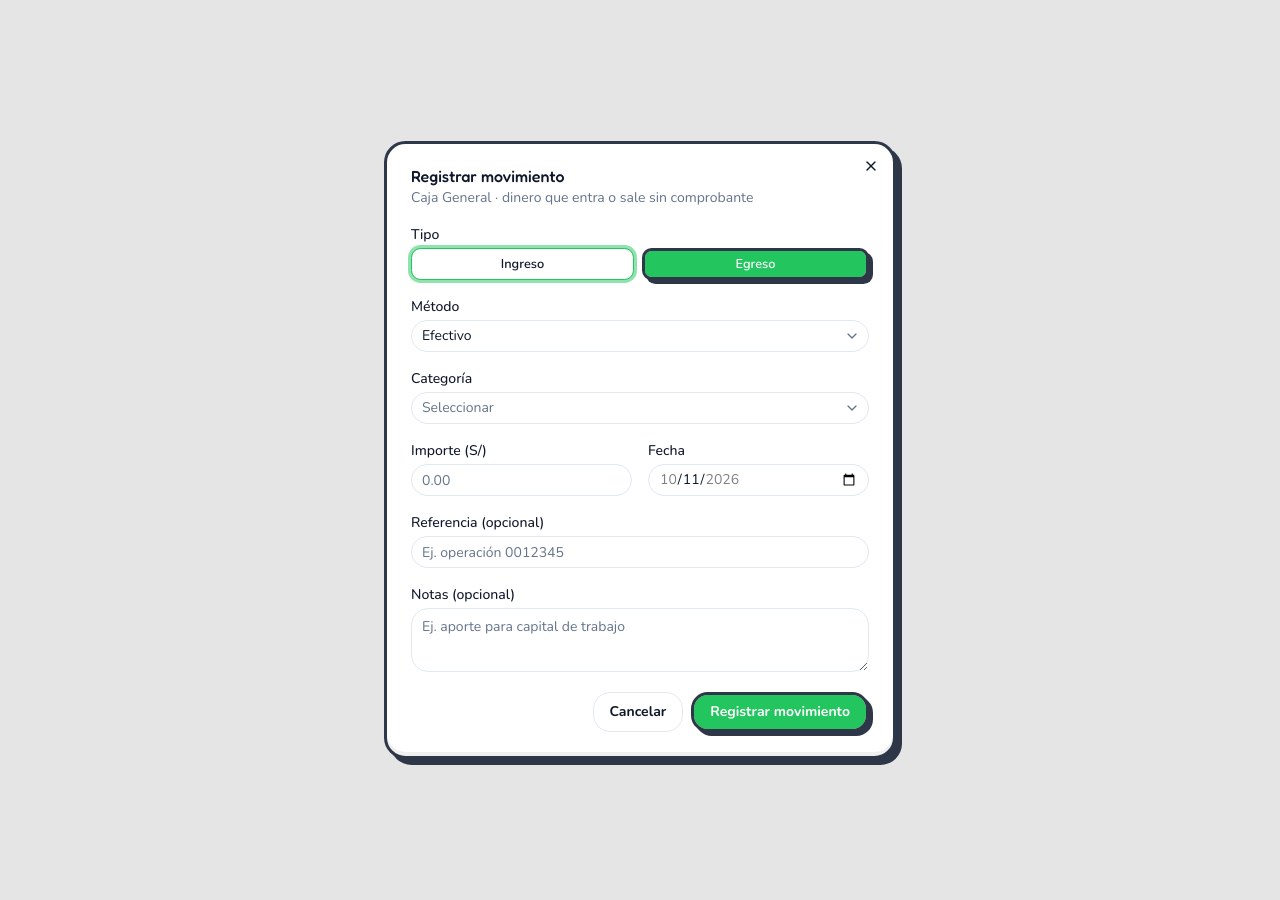
CashMovementModal › rechaza una fecha dentro de un periodo cerrado
The width and height of the screenshot is (1280, 900).
Expected: the text "Efectivo" is shown, [422, 326, 472, 345]
Type "25" into the number field labelled "Importe (S/)" at (522, 480), box [411, 464, 632, 496]
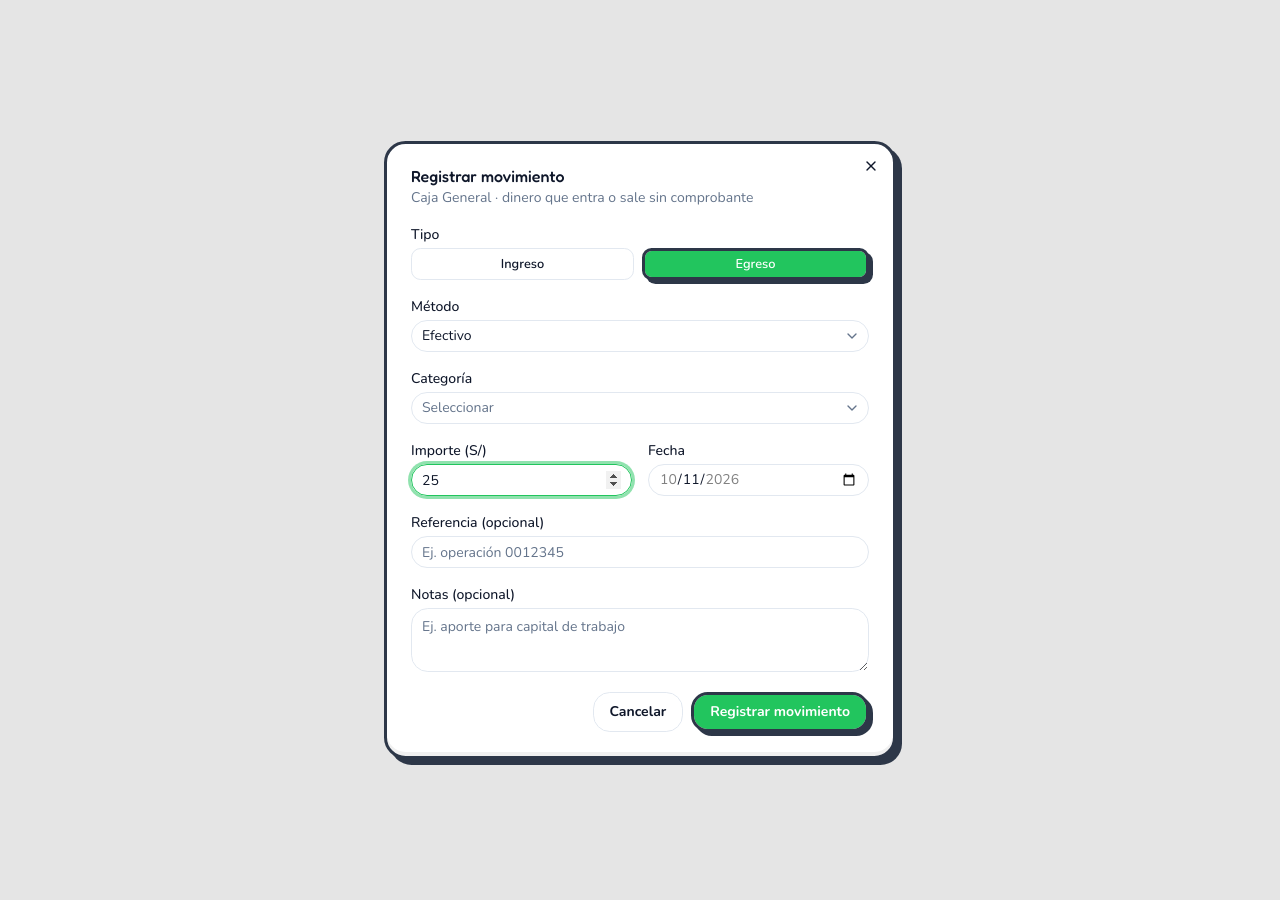
Click the dropdown named "Categoría" at (458, 408), box [411, 392, 869, 424]
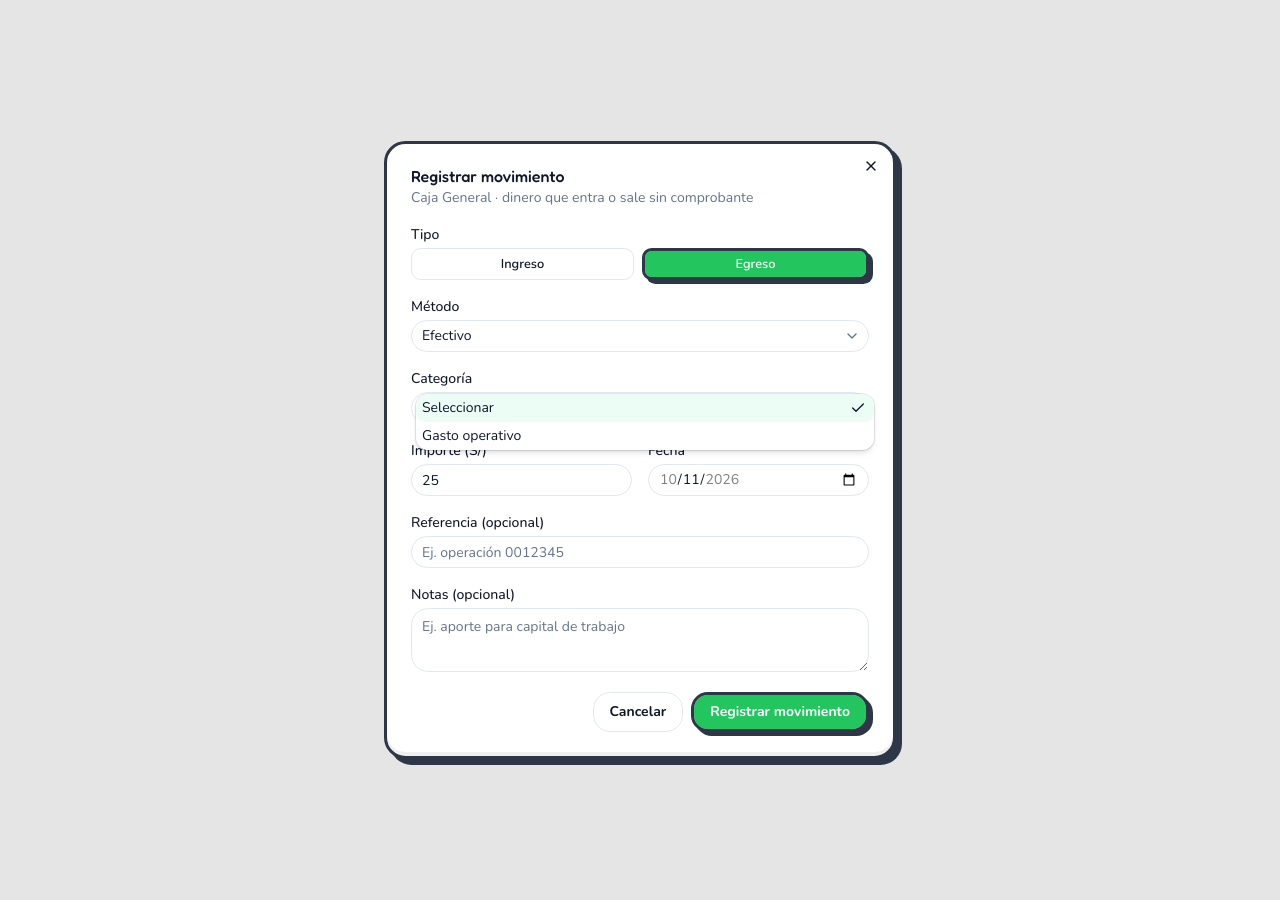
Click the option "Gasto operativo" at (472, 436), box [422, 426, 521, 445]
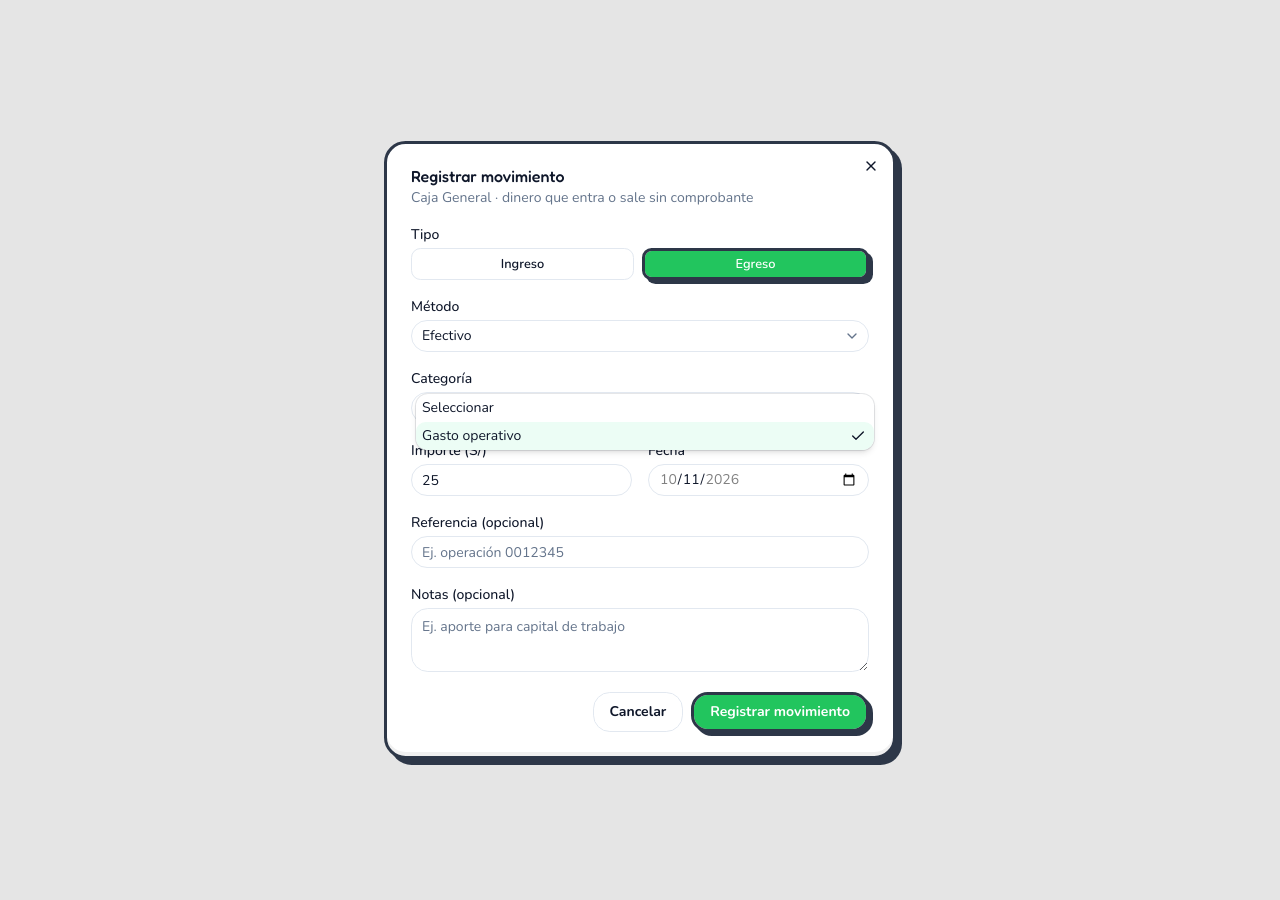
Type "2026-10-05" into the date field labelled "Fecha" at (758, 480), box [648, 464, 869, 496]
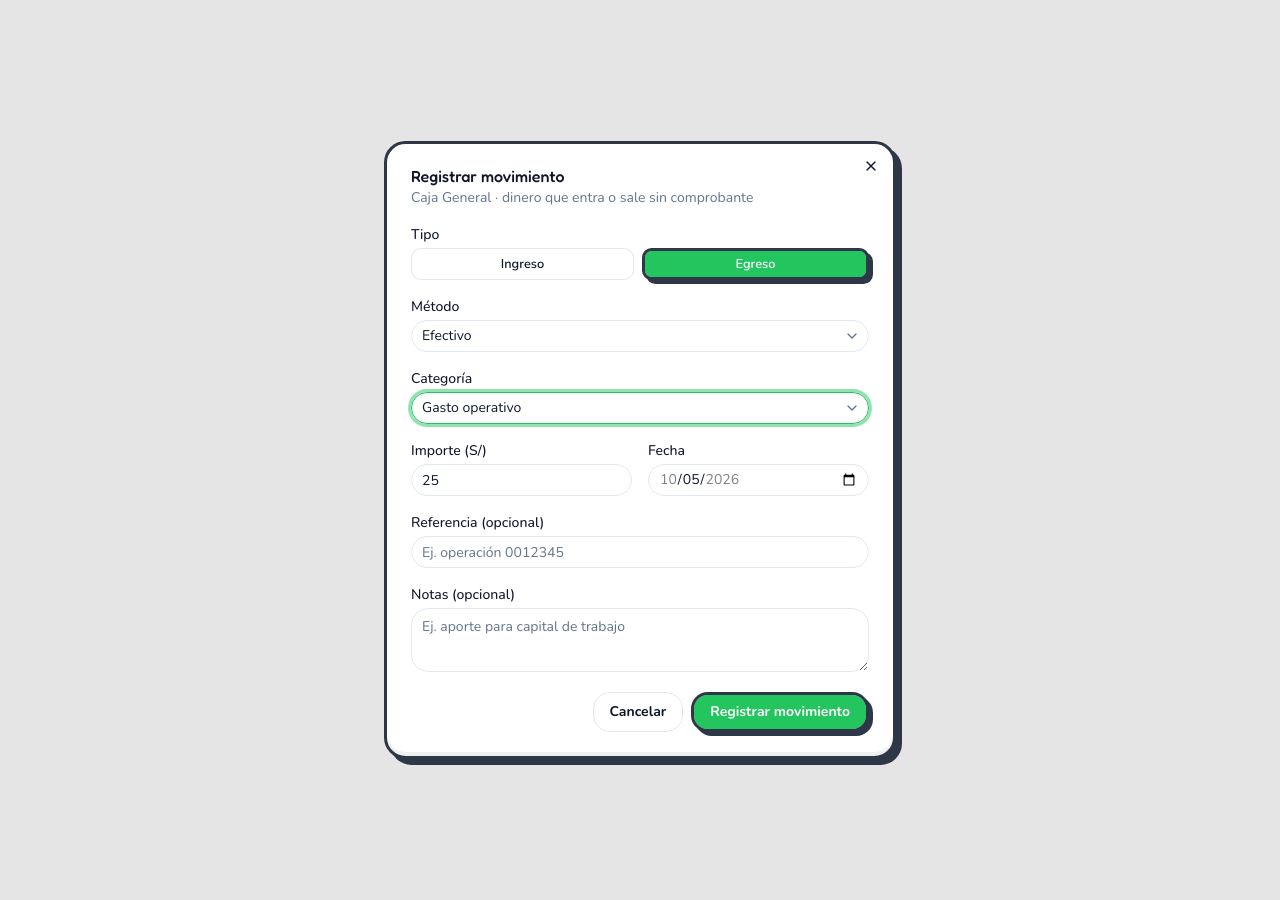
Click the button "Registrar movimiento" at (780, 712), box [691, 692, 869, 732]
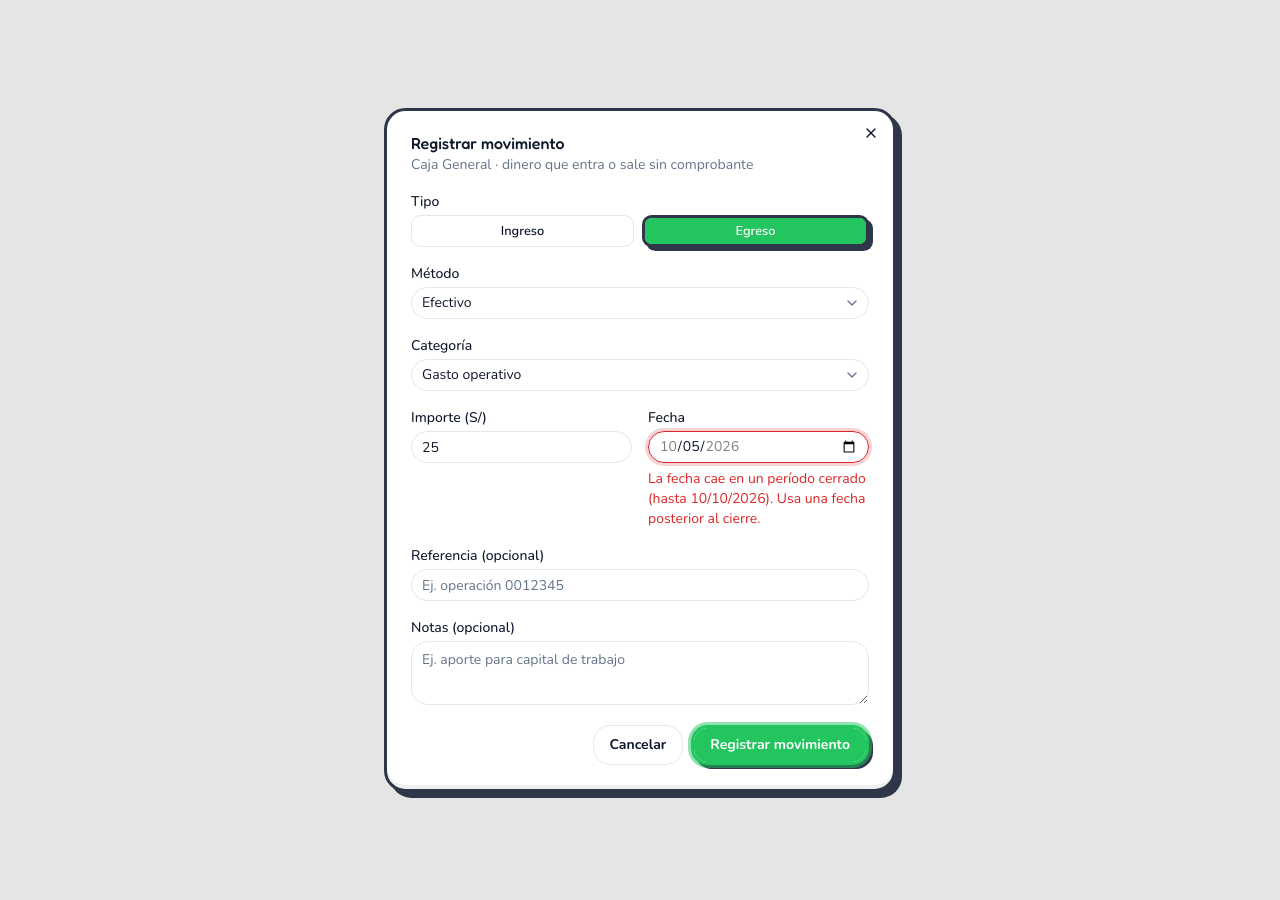
Result: the text "período cerrado" is shown at [648, 469, 866, 528]
